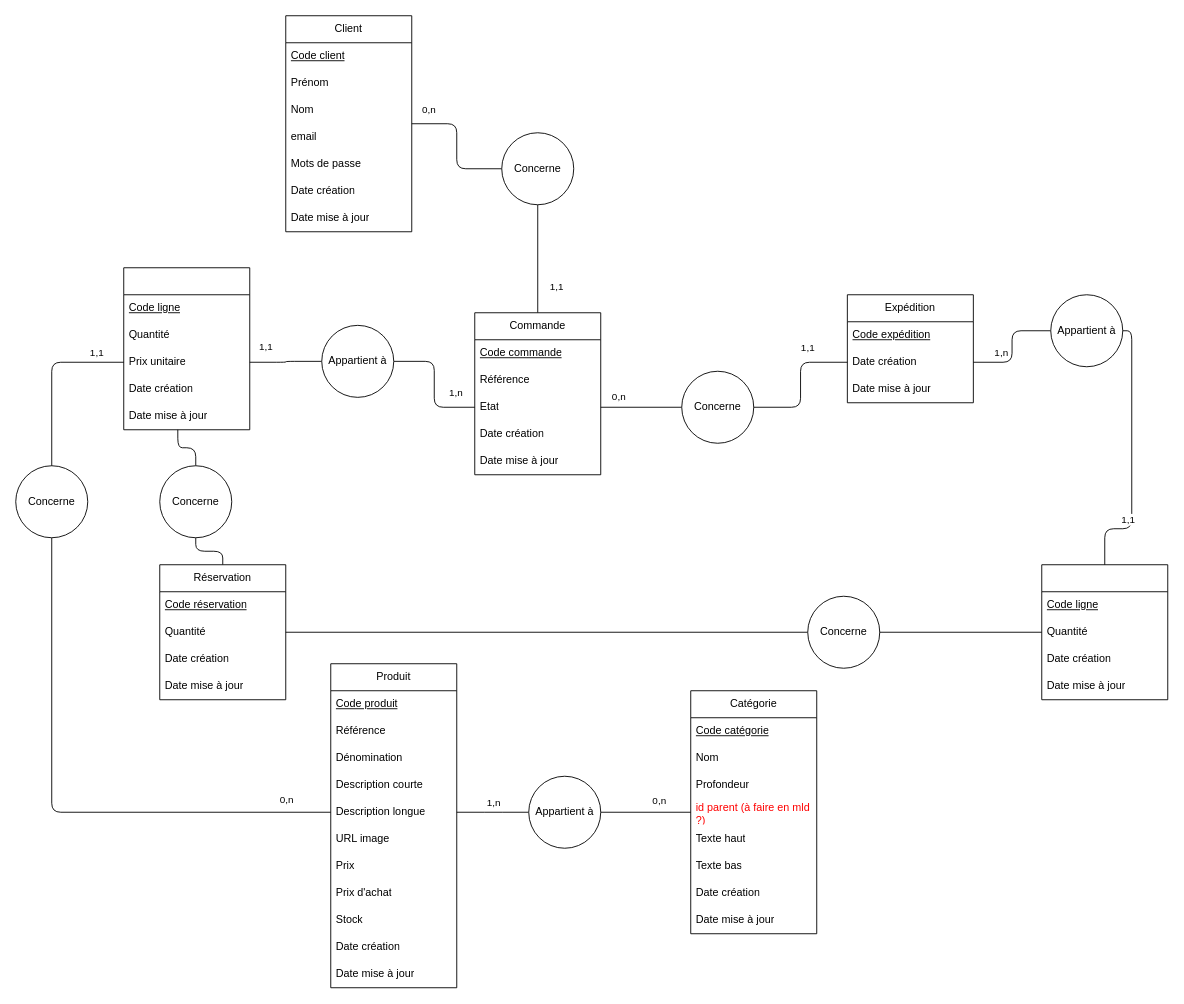
This 1184x1004 diagram has some shape labels left out. The box of each missing label's shape, as (x1, y1, x2, y2) in pixels:
Ligne de commande: (123, 267, 250, 430)
Ligne expédition: (1041, 564, 1168, 700)
